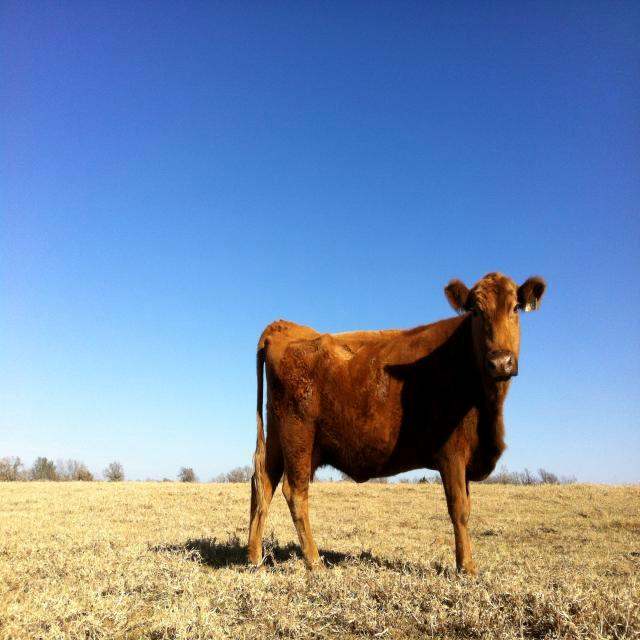COW: (249, 273, 545, 574)
